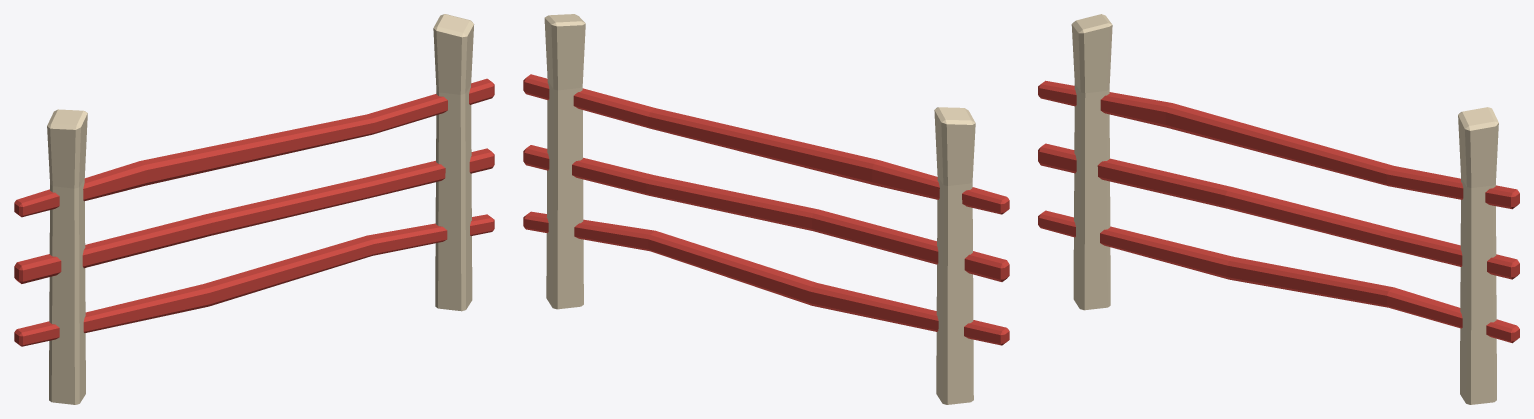
The model's file is fence_c1.gltf.
3 views of the same model, side by side, from view 1: azimuth 30°, elevation 25°; view 2: azimuth 150°, elevation 25°; view 3: azimuth 330°, elevation 25° (orthographic).
Visible parts, largest first — view 1: fence_c1001; view 2: fence_c1001; view 3: fence_c1001.
Part boxes in pixels (left/top/right/bottom): fence_c1001: left=14, top=14, right=494, bottom=404; fence_c1001: left=523, top=14, right=1009, bottom=404; fence_c1001: left=1038, top=14, right=1519, bottom=404.
Bounding box in the file's own units: 1.41 × 0.802 × 0.1139.
1 material, 1 textured.
